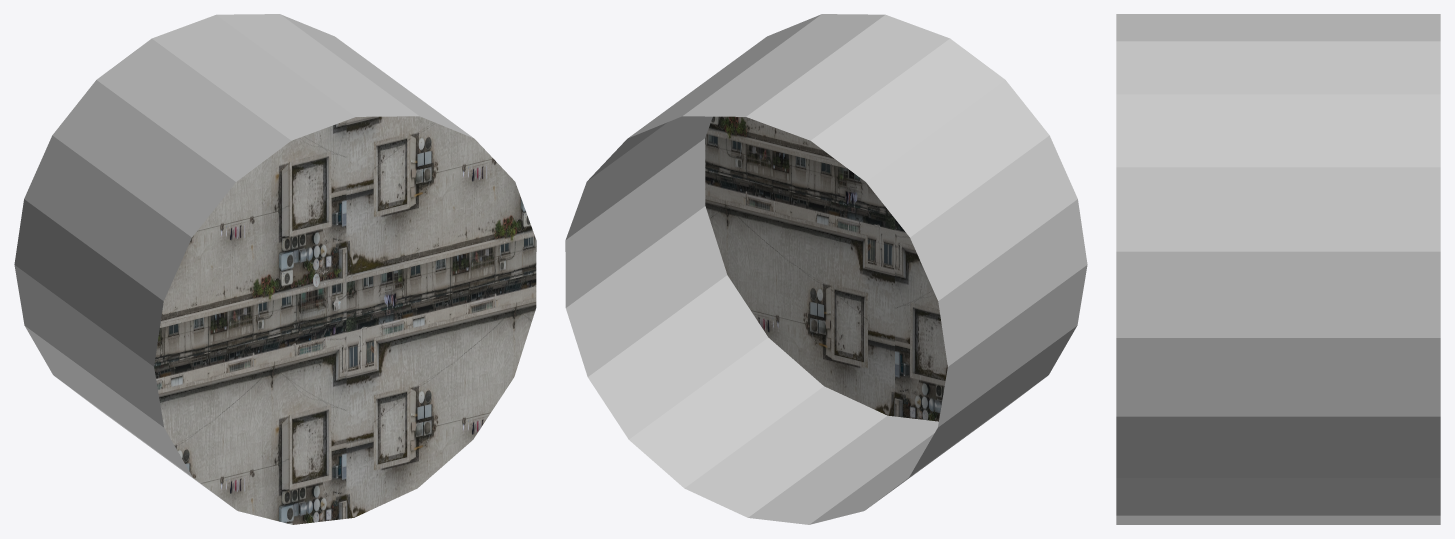
File: geospecific_688.obj
3 renders of one model, left to right at view 1: azimuth 30°, elevation 25°; view 2: azimuth 150°, elevation 25°; view 3: azimuth 270°, elevation 25°, orthographic. The views are drawn at different scales.
Parts seen in each view (by area): view 1: Building; view 2: Building; view 3: Building.
Boxes of the visible parts, box(x1,y1,x2,y2) form: Building: box(14, 14, 536, 524); Building: box(565, 14, 1087, 524); Building: box(1116, 14, 1440, 524).
Bounding box in the file's own units: 37.93 × 37.96 × 24.
